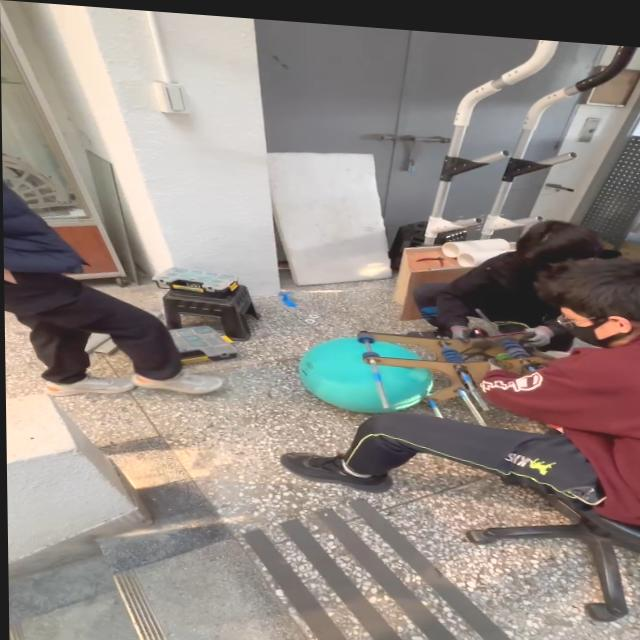ALGAE: (294, 330, 435, 419)
